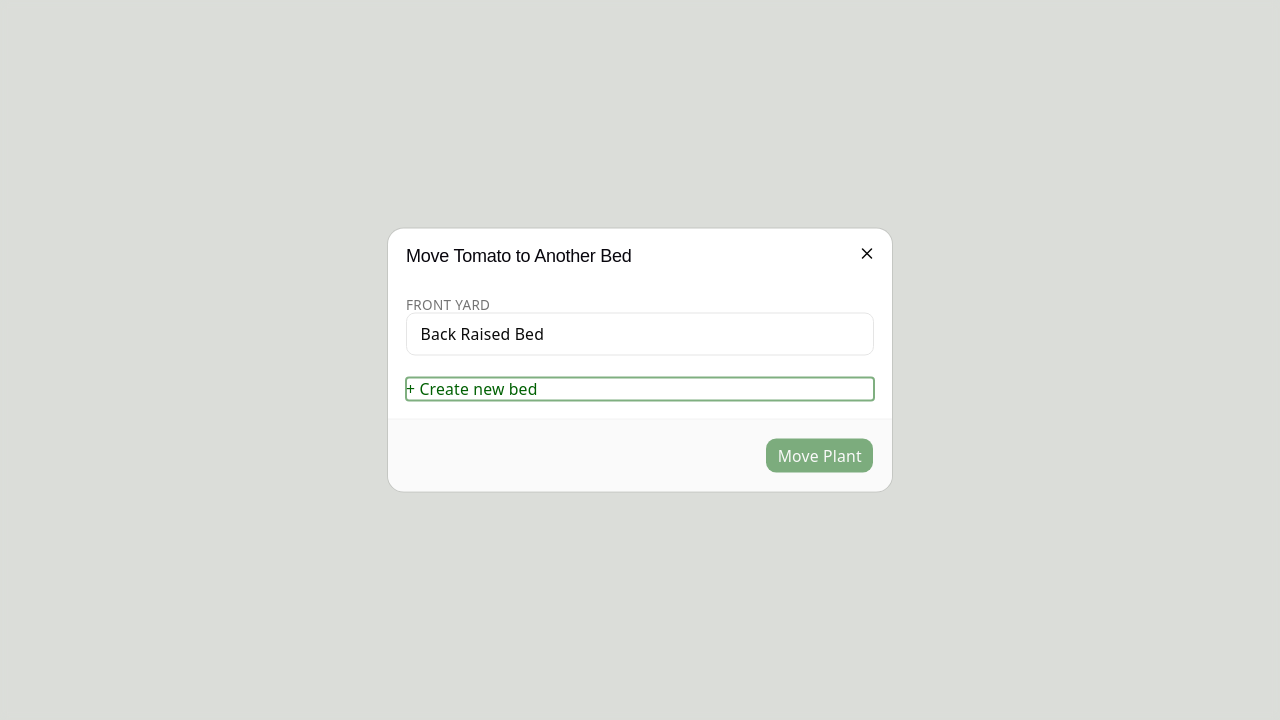
Test: MovePlantDialog › navigates to the create step when Create new bed is clicked
Expected: the button "Back Raised Bed" is shown, [406,313,874,356]
What coordinates should you click on to do the following:
click the button "+ Create new bed"
I would click on:
 (472, 389)
Its box is [406,378,874,400].
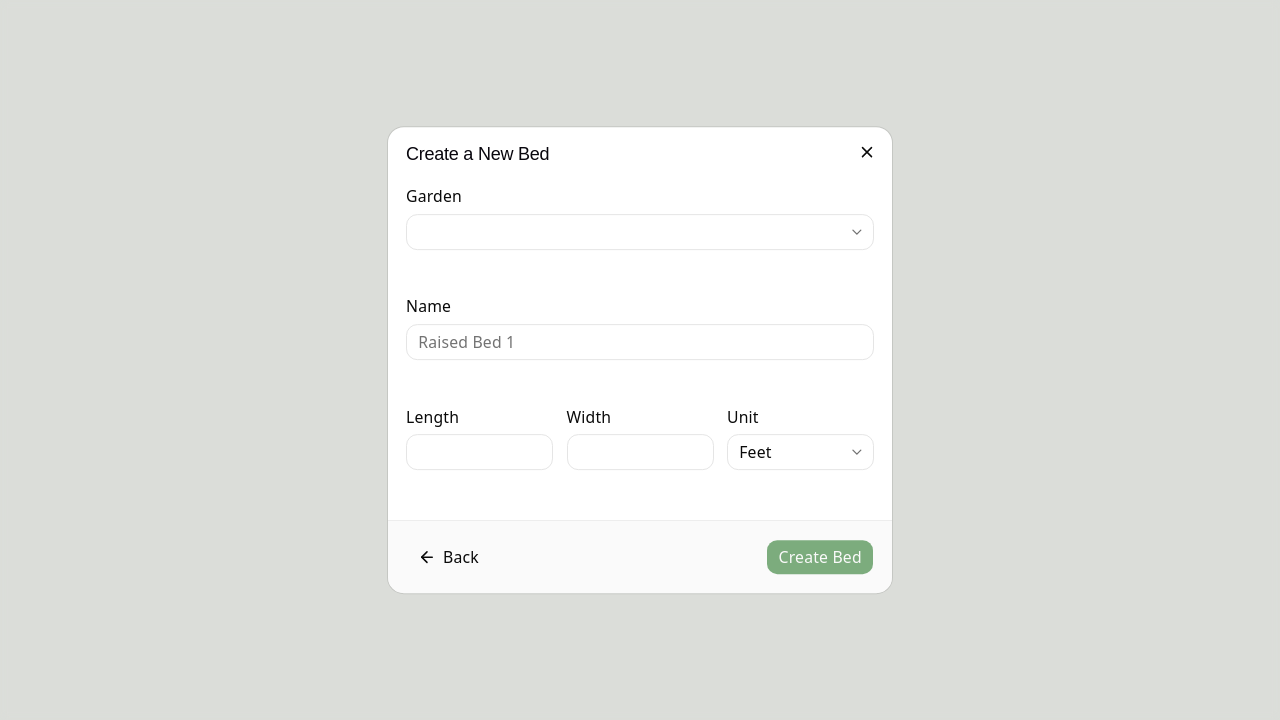
Now the heading "Create a New Bed" is shown, box [406,144,549,164]
